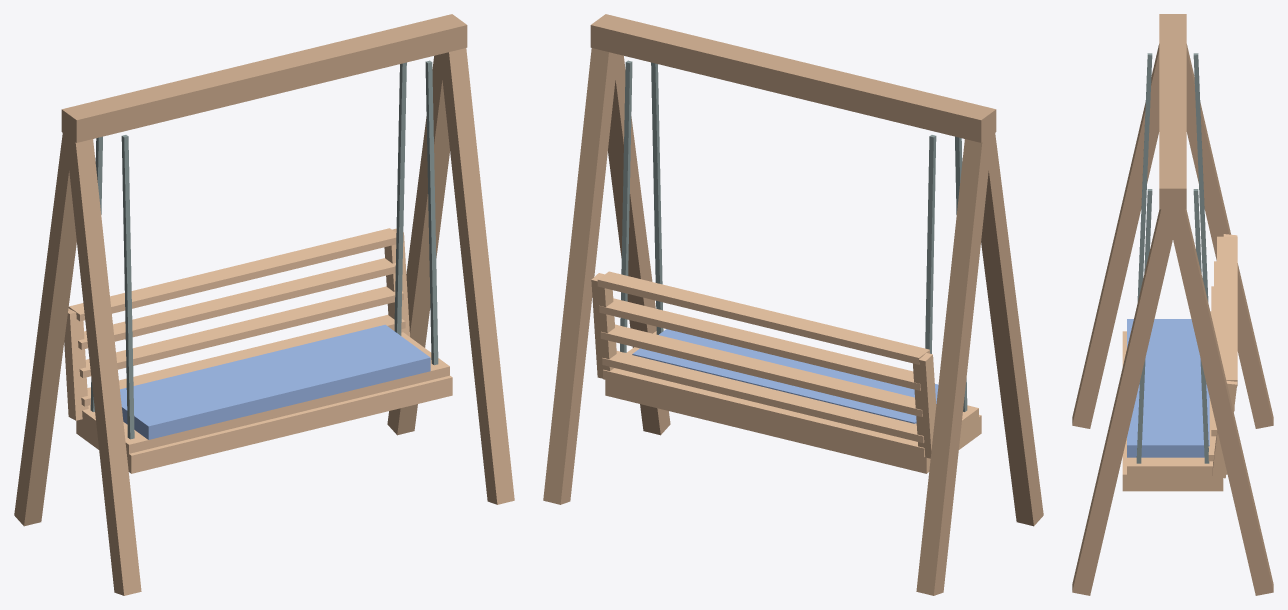
Rendered from porchSwing.glb.
3 views of the same model, side by side, from view 1: azimuth 30°, elevation 25°; view 2: azimuth 150°, elevation 25°; view 3: azimuth 270°, elevation 25° (orthographic). The views are drawn at different scales.
Visible parts, largest first — view 1: porchSwing; view 2: porchSwing; view 3: porchSwing.
Boxes of the visible parts, bbox=[...] form: porchSwing: bbox=[14, 14, 514, 595]; porchSwing: bbox=[543, 14, 1043, 595]; porchSwing: bbox=[1072, 14, 1273, 595].
Size of the model in its own units: 0.9 by 0.9791 by 0.4391.
